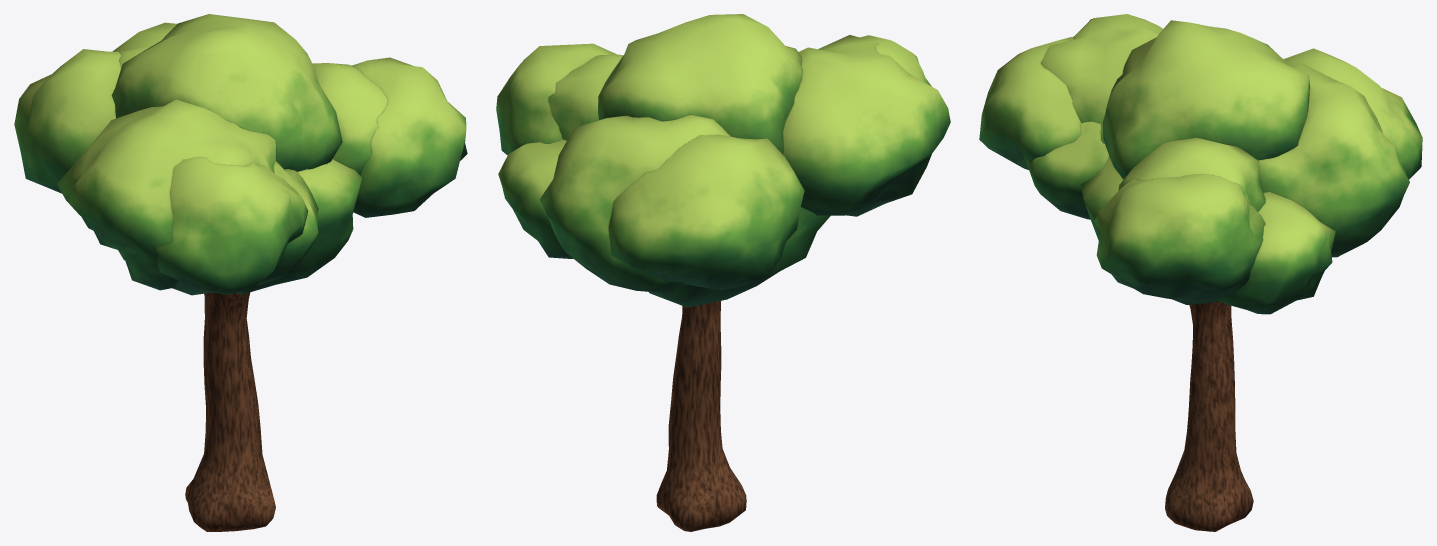
The model's file is Env_BroadTree_2.glb.
The picture shows the model from 3 angles, left to right: view 1: azimuth 30°, elevation 25°; view 2: azimuth 150°, elevation 25°; view 3: azimuth 270°, elevation 25°; orthographic projection. The views are drawn at different scales.
Visible parts, largest first — view 1: Env_BroadTree_2.001; view 2: Env_BroadTree_2.001; view 3: Env_BroadTree_2.001.
Boxes of the visible parts, x1,y1,x2,y2 form: Env_BroadTree_2.001: (14,14,467,531); Env_BroadTree_2.001: (496,14,950,531); Env_BroadTree_2.001: (979,14,1422,531).
Bounding box in the file's own units: 11.63 × 14 × 11.58.
Materials: 1 (1 with a texture image).
